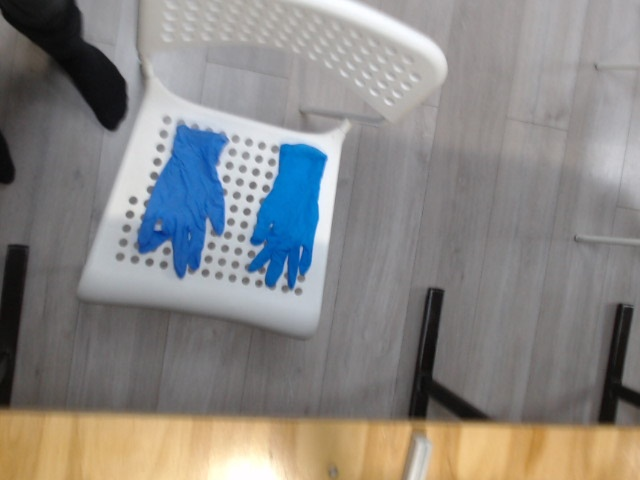medical_glove: (138, 125, 230, 274), (250, 141, 328, 285)
